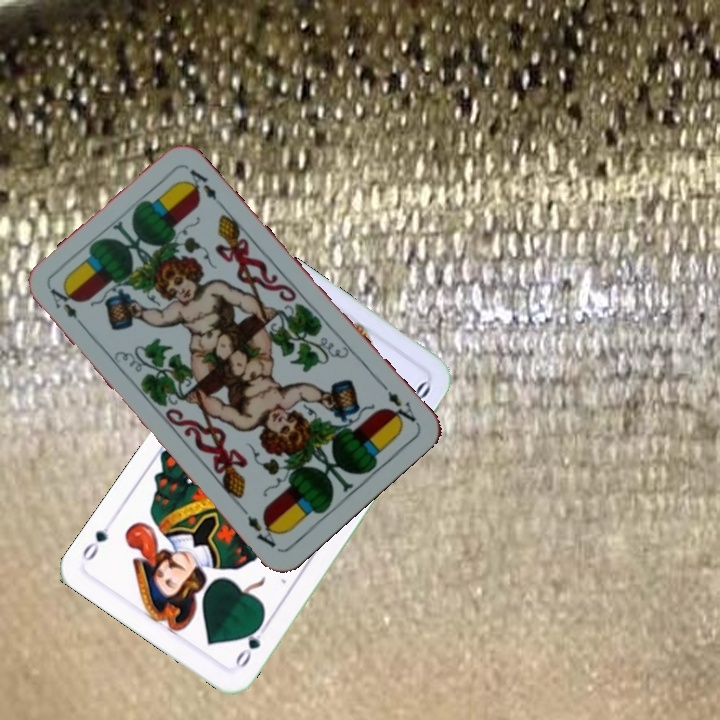EA: (45, 284, 90, 333), (376, 378, 419, 429)
GO: (231, 618, 271, 670)
